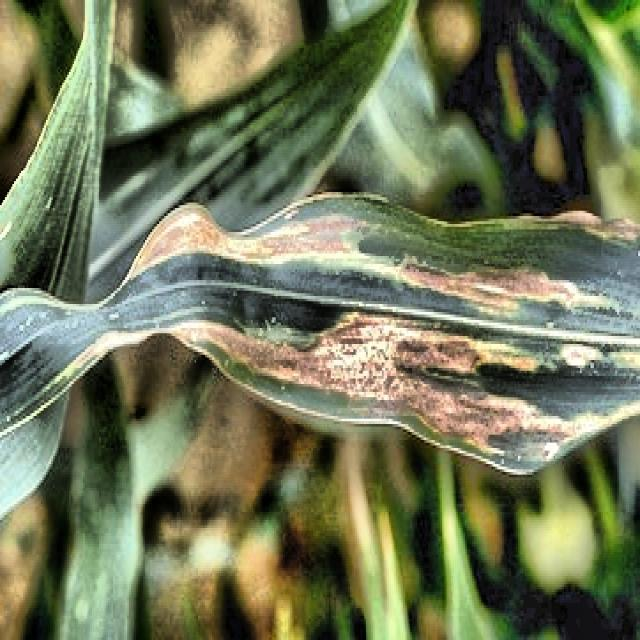blight: (3, 197, 640, 474)
